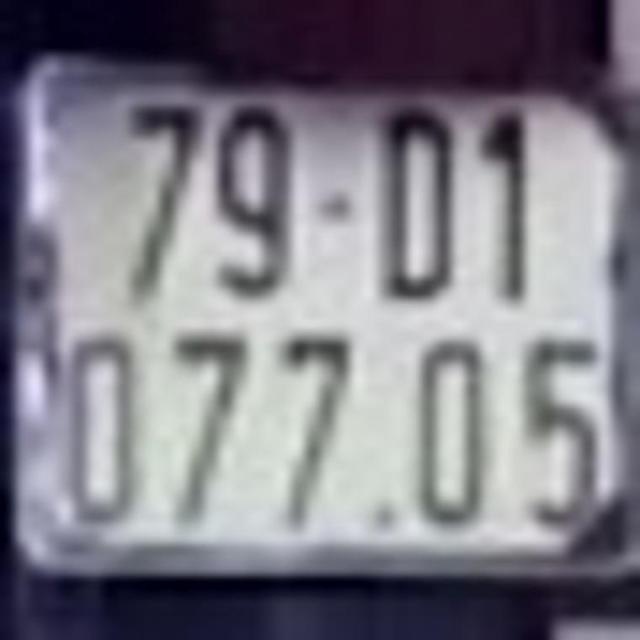0: (64, 321, 140, 527), (414, 327, 490, 528)
1: (478, 103, 538, 306)
5: (520, 330, 605, 533)
7: (116, 94, 202, 307), (163, 323, 250, 528), (272, 324, 355, 532)
9: (212, 97, 296, 302)
D: (376, 100, 460, 303)
